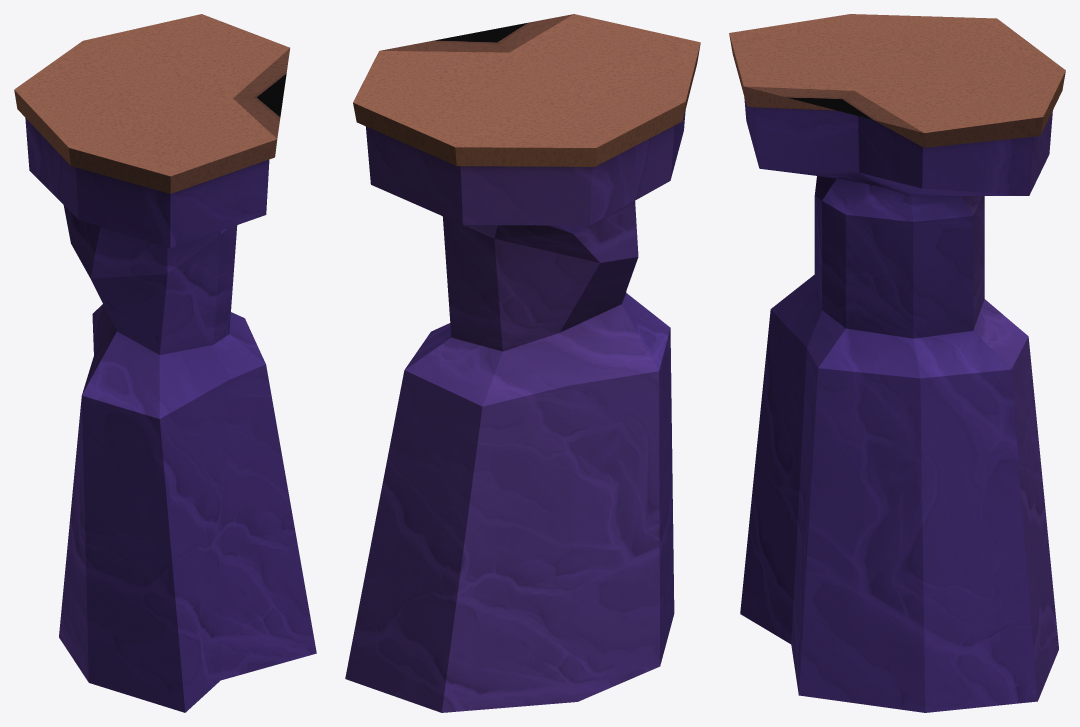
Rendered from fantasy_asset12.gltf.
The picture shows the model from 3 angles, left to right: view 1: azimuth 30°, elevation 25°; view 2: azimuth 150°, elevation 25°; view 3: azimuth 270°, elevation 25°; orthographic projection. The views are drawn at different scales.
Parts seen in each view (by area): view 1: fantasy_asset12; view 2: fantasy_asset12; view 3: fantasy_asset12.
Part boxes in pixels (box(x1,y1,x2,y2)): fantasy_asset12: box(14, 14, 316, 712); fantasy_asset12: box(345, 14, 700, 712); fantasy_asset12: box(729, 14, 1065, 712).
Size of the model in its own units: 1.7 by 3.49 by 1.84.
1 material, 1 textured.
